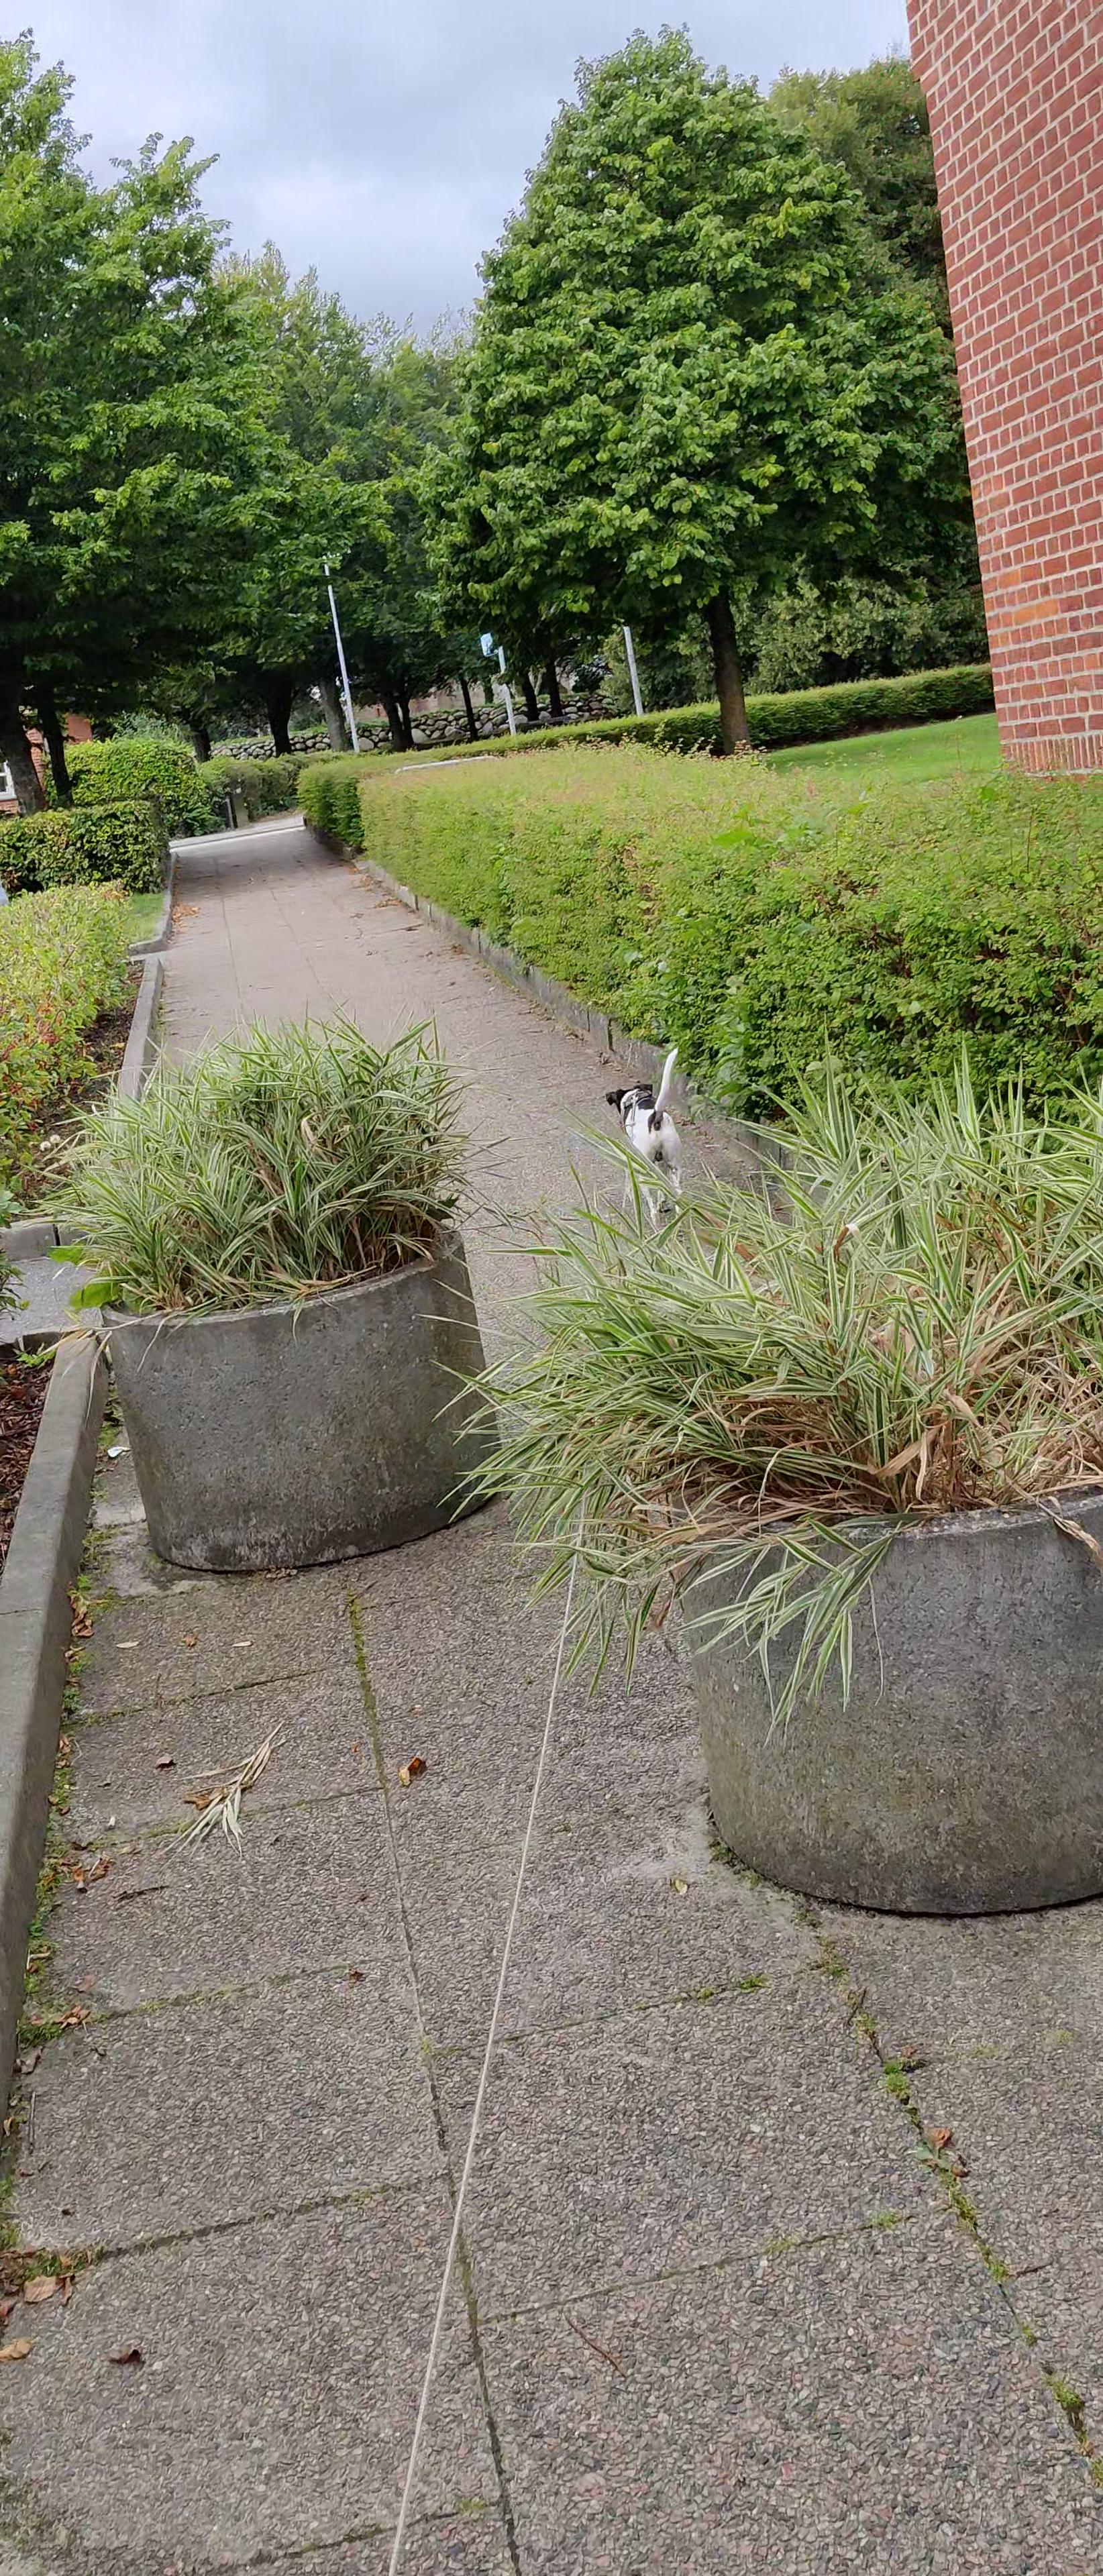Dog: (602, 1043, 685, 1235)
